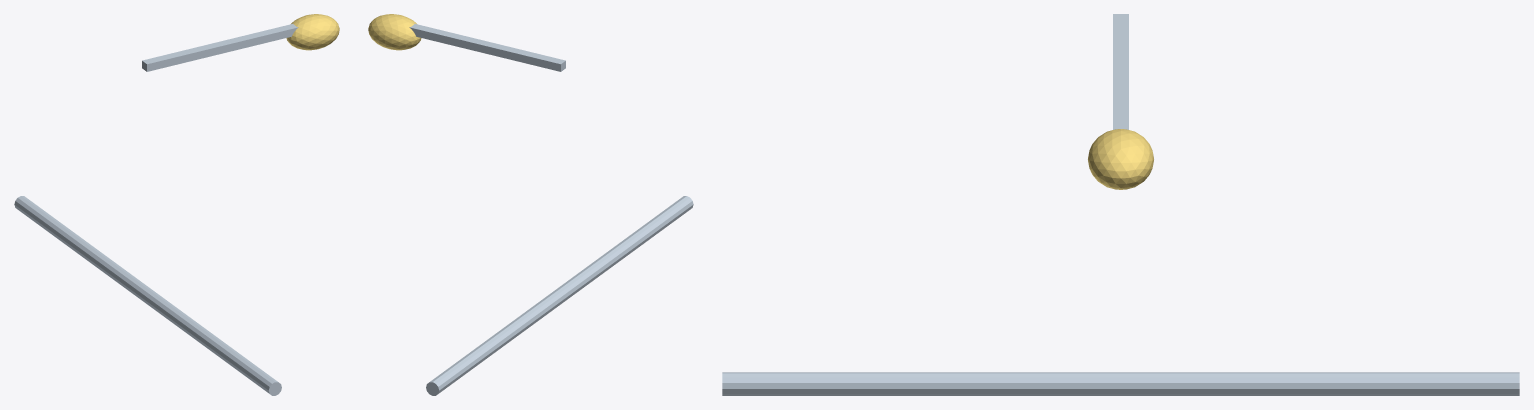
File: farola.glb
The picture shows the model from 3 angles, left to right: view 1: azimuth 30°, elevation 25°; view 2: azimuth 150°, elevation 25°; view 3: azimuth 270°, elevation 25°; orthographic projection. The views are drawn at different scales.
Parts seen in each view (by area): view 1: LampPole_1, LampArm_2, Light_3; view 2: LampPole_1, LampArm_2, Light_3; view 3: LampPole_1, Light_3, LampArm_2.
Part boxes in pixels (x1,y1,x2,y2): LampPole_1: [14, 196, 281, 395]; LampArm_2: [142, 23, 298, 71]; Light_3: [286, 14, 339, 50]; LampPole_1: [426, 196, 693, 395]; LampArm_2: [409, 23, 565, 71]; Light_3: [368, 14, 421, 50]; LampPole_1: [722, 372, 1519, 395]; Light_3: [1088, 129, 1153, 189]; LampArm_2: [1113, 14, 1128, 129].
Size of the model in its own units: 2.67 by 3.2 by 6.
